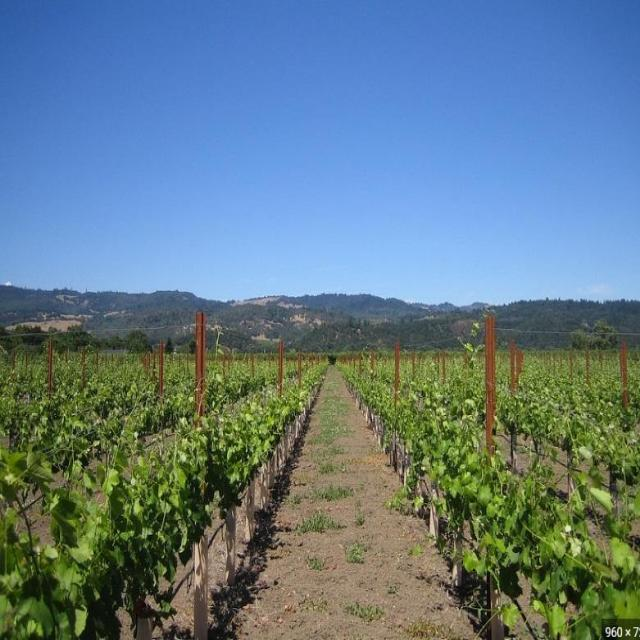row: (218, 366, 482, 640)
